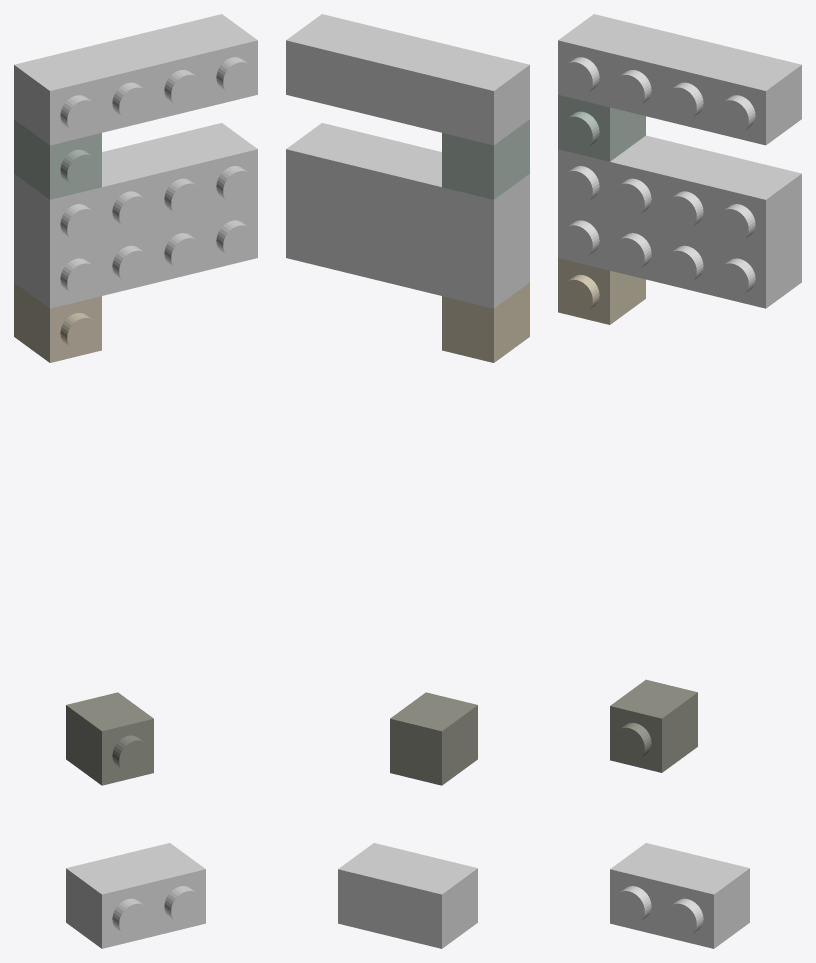
File: current.glb
3 renders of one model, left to right at view 1: azimuth 30°, elevation 25°; view 2: azimuth 150°, elevation 25°; view 3: azimuth 330°, elevation 25°, orthographic.
Visible parts, largest first — view 1: world; view 2: world; view 3: world.
Part boxes in pixels (x1,y1,x2,y2): world: (14, 14, 257, 948); world: (286, 14, 529, 948); world: (558, 14, 801, 948).
Size of the model in its own units: 32 by 128 by 11.4.
